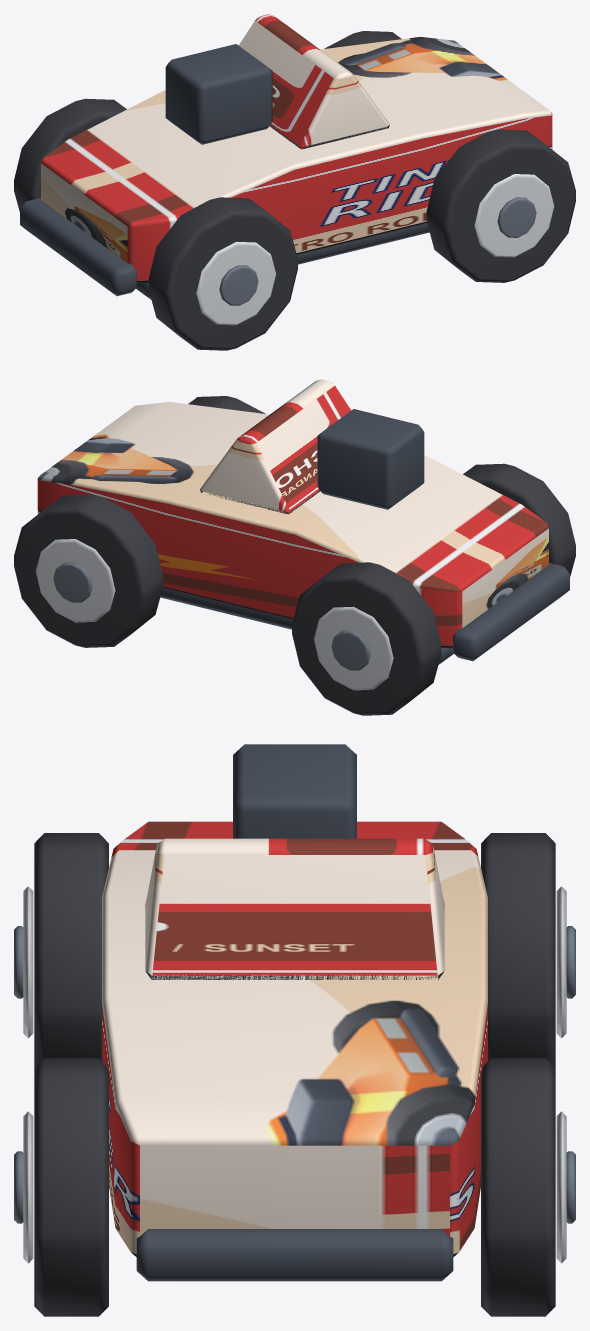
3 renders of one model, top to bottom at view 1: azimuth 30°, elevation 25°; view 2: azimuth 150°, elevation 25°; view 3: azimuth 270°, elevation 25°, orthographic. The views are drawn at different scales.
Parts seen in each view (by area): view 1: RR-04_connected_shell, Tire, Tire.002, RR-04_cabin, engine scoop, front bumper, Tire.001, Rim, Rim.002, underbody, Hub, Hub.002 (+1 smaller); view 2: RR-04_connected_shell, Tire.001, Tire.003, RR-04_cabin, engine scoop, front bumper, Tire, Rim.001, Rim.003, underbody, Hub.001, Hub.003 (+1 smaller); view 3: RR-04_connected_shell, RR-04_cabin, Tire.002, Tire.003, rear bumper, Tire, Tire.001, engine scoop, Rim, Rim.001, Rim.002, Rim.003 (+4 smaller).
Part boxes in pixels (bbox=[...]): RR-04_connected_shell: bbox=[41, 36, 552, 283]; Tire: bbox=[148, 197, 297, 350]; Tire.002: bbox=[426, 129, 575, 282]; RR-04_cabin: bbox=[238, 14, 389, 149]; engine scoop: bbox=[165, 44, 272, 144]; front bumper: bbox=[20, 198, 137, 296]; Tire.001: bbox=[14, 98, 126, 211]; Rim: bbox=[196, 241, 276, 325]; Rim.002: bbox=[474, 174, 554, 257]; underbody: bbox=[136, 223, 429, 299]; Hub: bbox=[219, 265, 258, 305]; Hub.002: bbox=[497, 197, 536, 237]; RR-04_connected_shell: bbox=[37, 401, 548, 648]; Tire.001: bbox=[292, 562, 441, 715]; Tire.003: bbox=[14, 494, 163, 647]; RR-04_cabin: bbox=[200, 379, 351, 514]; engine scoop: bbox=[317, 409, 424, 509]; front bumper: bbox=[452, 563, 569, 661]; Tire: bbox=[463, 463, 575, 576]; Rim.001: bbox=[313, 606, 393, 690]; Rim.003: bbox=[35, 539, 115, 622]; underbody: bbox=[160, 588, 453, 664]; Hub.001: bbox=[331, 630, 370, 670]; Hub.003: bbox=[53, 562, 92, 602]; RR-04_connected_shell: bbox=[102, 821, 487, 1256]; RR-04_cabin: bbox=[145, 838, 444, 979]; Tire.002: bbox=[34, 1058, 108, 1316]; Tire.003: bbox=[481, 1058, 555, 1316]; rear bumper: bbox=[136, 1229, 453, 1281]; Tire: bbox=[34, 833, 108, 1067]; Tire.001: bbox=[481, 833, 555, 1067]; engine scoop: bbox=[233, 744, 356, 838]; Rim: bbox=[23, 886, 33, 1038]; Rim.001: bbox=[556, 886, 566, 1038]; Rim.002: bbox=[23, 1111, 33, 1263]; Rim.003: bbox=[556, 1111, 566, 1263].
Size of the model in its own units: 303 by 137 by 195.
